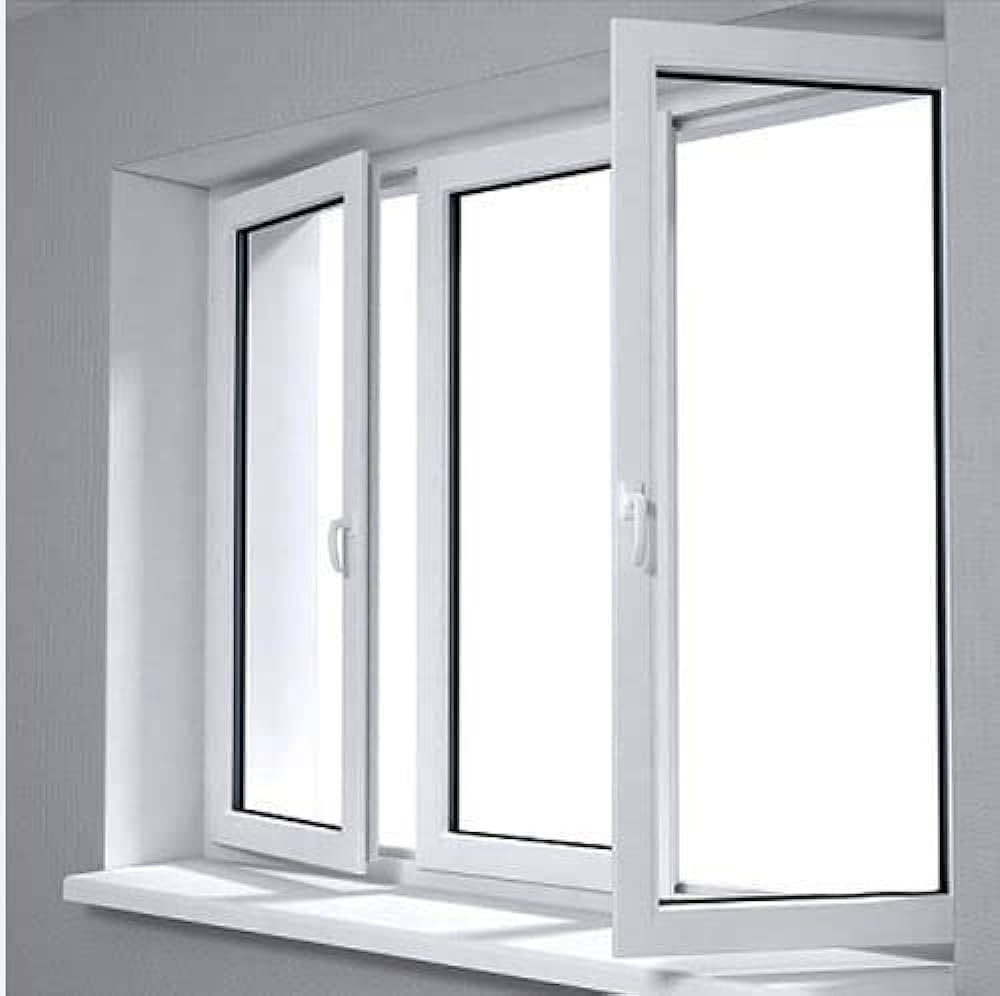Window: (184, 82, 938, 917)
